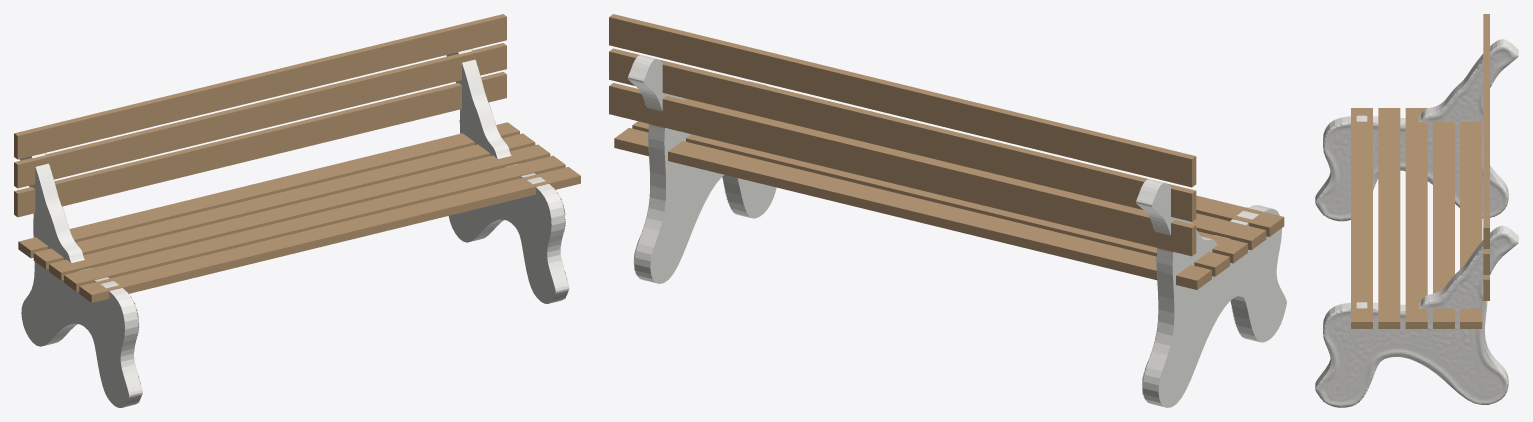
Rendered from terilgan.glb.
3 views of the same model, side by side, from view 1: azimuth 30°, elevation 25°; view 2: azimuth 150°, elevation 25°; view 3: azimuth 270°, elevation 25° (orthographic). The views are drawn at different scales.
Visible parts, largest first — view 1: Orqa2, Orqa1, Orqa0, t-1, Sed0, t1, Sed1, Sed2, Sed3, Sed4; view 2: Orqa2, Orqa0, Orqa1, t-1, Sed4, t1, Sed3, Sed1, Sed0, Sed2; view 3: t1, t-1, Sed1, Sed2, Sed0, Sed3, Sed4, Orqa2.
Boxes of the visible parts, left/top/right/bottom form: Orqa2: left=14, top=14, right=506, bottom=159; Orqa1: left=14, top=43, right=506, bottom=188; Orqa0: left=14, top=72, right=506, bottom=217; t-1: left=19, top=153, right=142, bottom=407; Sed0: left=79, top=167, right=580, bottom=302; t1: left=446, top=49, right=569, bottom=303; Sed1: left=64, top=155, right=565, bottom=291; Sed2: left=49, top=144, right=550, bottom=280; Sed3: left=33, top=133, right=535, bottom=269; Sed4: left=18, top=122, right=519, bottom=258; Orqa2: left=609, top=14, right=1196, bottom=187; Orqa0: left=609, top=83, right=1196, bottom=256; Orqa1: left=609, top=48, right=1196, bottom=221; t-1: left=1136, top=179, right=1286, bottom=407; Sed4: left=614, top=128, right=1211, bottom=289; t1: left=627, top=55, right=776, bottom=283; Sed3: left=632, top=121, right=1229, bottom=276; Sed1: left=683, top=98, right=1266, bottom=250; Sed0: left=1196, top=195, right=1284, bottom=236; Sed2: left=1198, top=231, right=1247, bottom=263; t1: left=1315, top=225, right=1518, bottom=407; t-1: left=1315, top=39, right=1518, bottom=221; Sed1: left=1378, top=108, right=1400, bottom=328; Sed2: left=1405, top=108, right=1427, bottom=328; Sed0: left=1351, top=108, right=1372, bottom=328; Sed3: left=1433, top=122, right=1454, bottom=328; Sed4: left=1460, top=122, right=1482, bottom=328; Orqa2: left=1483, top=14, right=1489, bottom=248.
Bounding box in the file's own units: 1.95 × 0.8233 × 0.7823.
